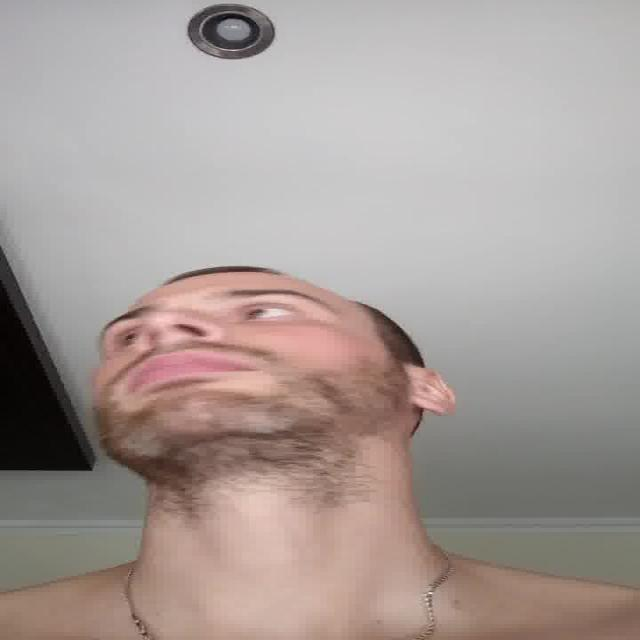earlobe: (408, 367, 455, 415)
